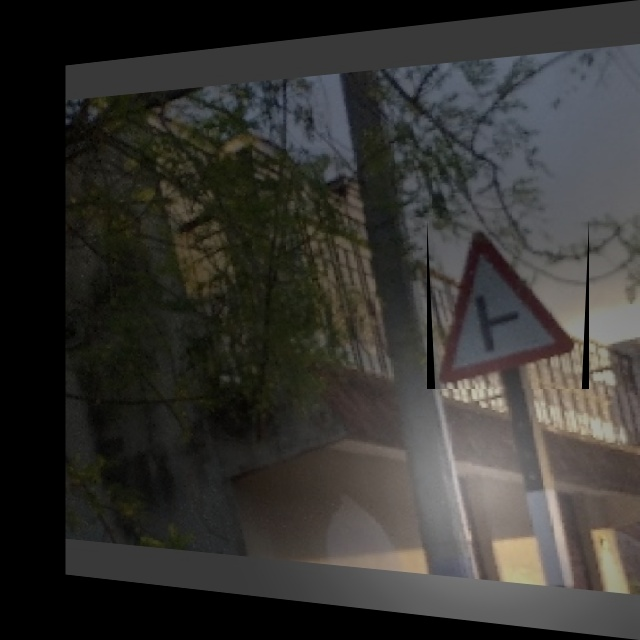Side_Road_Right: (427, 219, 589, 389)
